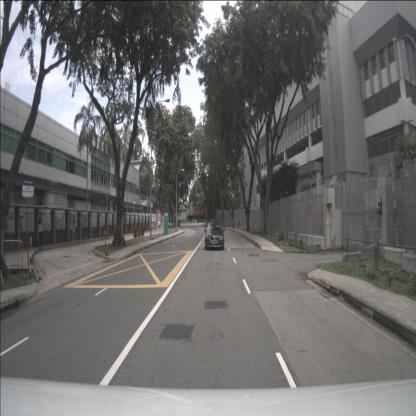human-pedestrian-adult: (38, 218, 43, 247), (73, 220, 77, 242), (133, 219, 136, 234), (238, 216, 240, 230), (178, 219, 181, 228), (158, 220, 160, 230), (151, 222, 153, 231), (169, 222, 171, 229), (176, 221, 178, 228), (170, 221, 172, 228), (168, 221, 169, 229)
vehicle-car: (205, 222, 224, 250), (204, 220, 210, 228)
